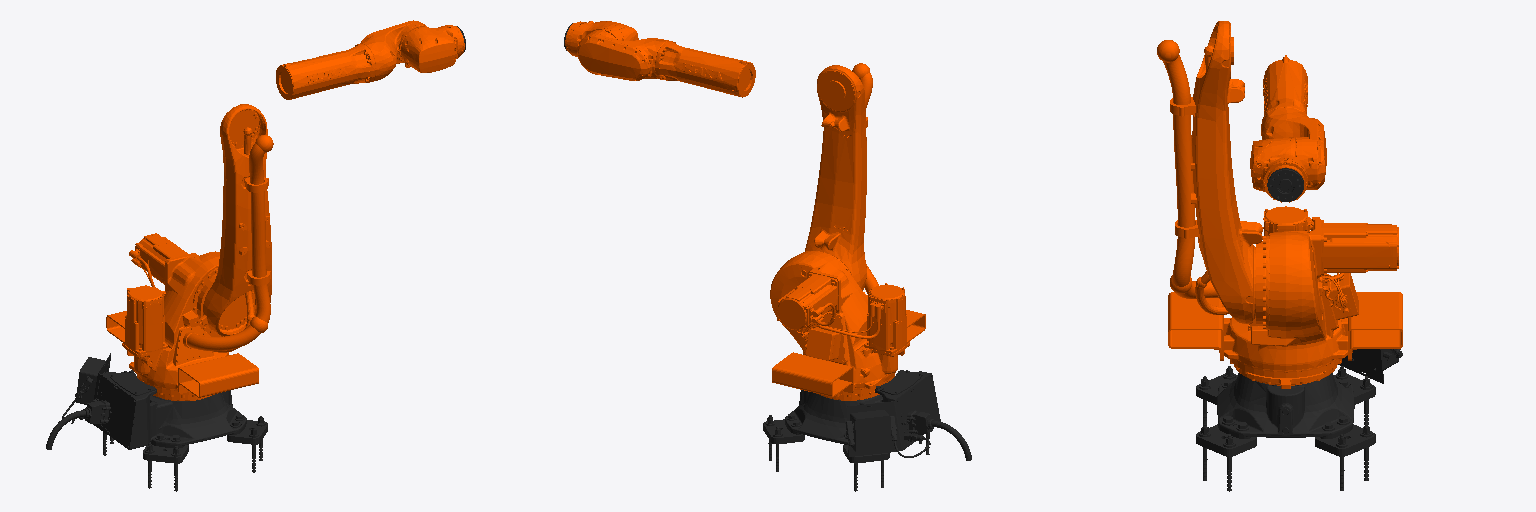
URDF robot description (kuka_kr_70_r2100):
<?xml version="1.0"?>
<robot name="kuka_kr_70_r2100">
  <material name="kuka_orange"><color rgba="1.00 0.40 0.00 1.0"/></material>
  <material name="kuka_dark_gray"><color rgba="0.20 0.20 0.20 1.0"/></material>

  <link name="base_link">
    <inertial>
      <origin xyz="-0.130731 0.039433 0.073320" rpy="0 0 0"/>
      <mass value="124.444"/>
      <inertia ixx="2.857877" ixy="0.498359" ixz="0.544906" iyy="4.033795" iyz="-0.164574" izz="5.644656"/>
    </inertial>
    <visual>
      <origin xyz="0 0 0" rpy="0 0 0"/>
      <geometry><mesh filename="meshes/visual/base_link.stl"/></geometry>
      <material name="kuka_dark_gray"/>
    </visual>
    <collision>
      <origin xyz="0 0 0" rpy="0 0 0"/>
      <geometry><mesh filename="meshes/visual/base_link.stl"/></geometry>
    </collision>
  </link>

  <link name="link_1">
    <inertial>
      <origin xyz="0.017118 0.016407 0.429052" rpy="0 0 0"/>
      <mass value="163.333"/>
      <inertia ixx="6.767992" ixy="0.024721" ixz="-0.359099" iyy="4.069256" iyz="-0.474165" izz="6.147049"/>
    </inertial>
    <visual>
      <origin xyz="0 0 0" rpy="0 0 0"/>
      <geometry><mesh filename="meshes/visual/link_1.stl"/></geometry>
      <material name="kuka_orange"/>
    </visual>
    <collision>
      <origin xyz="0 0 0" rpy="0 0 0"/>
      <geometry><mesh filename="meshes/visual/link_1.stl"/></geometry>
    </collision>
  </link>

  <link name="link_2">
    <inertial>
      <origin xyz="0.001184 -0.241721 0.389164" rpy="0 0 0"/>
      <mass value="202.222"/>
      <inertia ixx="14.085316" ixy="0.002030" ixz="0.132864" iyy="13.753797" iyz="1.256028" izz="1.650662"/>
    </inertial>
    <visual>
      <origin xyz="0 0 0" rpy="0 0 0"/>
      <geometry><mesh filename="meshes/visual/link_2.stl"/></geometry>
      <material name="kuka_orange"/>
    </visual>
    <collision>
      <origin xyz="0 0 0" rpy="0 0 0"/>
      <geometry><mesh filename="meshes/visual/link_2.stl"/></geometry>
    </collision>
  </link>

  <link name="link_3">
    <inertial>
      <origin xyz="0.031578 -0.004191 0.106598" rpy="0 0 0"/>
      <mass value="155.556"/>
      <inertia ixx="3.718305" ixy="0.918677" ixz="0.325826" iyy="4.949116" iyz="-0.232823" izz="5.515742"/>
    </inertial>
    <visual>
      <origin xyz="0 0 0" rpy="0 0 0"/>
      <geometry><mesh filename="meshes/visual/link_3.stl"/></geometry>
      <material name="kuka_orange"/>
    </visual>
    <collision>
      <origin xyz="0 0 0" rpy="0 0 0"/>
      <geometry><mesh filename="meshes/visual/link_3.stl"/></geometry>
    </collision>
  </link>

  <link name="link_4">
    <inertial>
      <origin xyz="-0.297796 0.030791 0.000310" rpy="0 0 0"/>
      <mass value="35.000"/>
      <inertia ixx="0.187410" ixy="-0.151741" ixz="0.001498" iyy="1.252736" iyz="0.000206" izz="1.275897"/>
    </inertial>
    <visual>
      <origin xyz="0 0 0" rpy="0 0 0"/>
      <geometry><mesh filename="meshes/visual/link_4.stl"/></geometry>
      <material name="kuka_orange"/>
    </visual>
    <collision>
      <origin xyz="0 0 0" rpy="0 0 0"/>
      <geometry><mesh filename="meshes/visual/link_4.stl"/></geometry>
    </collision>
  </link>

  <link name="link_5">
    <inertial>
      <origin xyz="0.051044 -0.024891 -0.000215" rpy="0 0 0"/>
      <mass value="31.111"/>
      <inertia ixx="0.146478" ixy="-0.020026" ixz="-0.000999" iyy="0.219155" iyz="0.000204" izz="0.225923"/>
    </inertial>
    <visual>
      <origin xyz="0 0 0" rpy="0 0 0"/>
      <geometry><mesh filename="meshes/visual/link_5.stl"/></geometry>
      <material name="kuka_orange"/>
    </visual>
    <collision>
      <origin xyz="0 0 0" rpy="0 0 0"/>
      <geometry><mesh filename="meshes/visual/link_5.stl"/></geometry>
    </collision>
  </link>

  <link name="link_6">
    <inertial>
      <origin xyz="-0.018089 0.000069 0.000108" rpy="0 0 0"/>
      <mass value="19.444"/>
      <inertia ixx="0.049209" ixy="-0.000006" ixz="-0.000034" iyy="0.036226" iyz="-0.000054" izz="0.036646"/>
    </inertial>
    <visual>
      <origin xyz="0 0 0" rpy="0 0 0"/>
      <geometry><mesh filename="meshes/visual/link_6.stl"/></geometry>
      <material name="kuka_dark_gray"/>
    </visual>
    <collision>
      <origin xyz="0 0 0" rpy="0 0 0"/>
      <geometry><mesh filename="meshes/visual/link_6.stl"/></geometry>
    </collision>
  </link>

  <link name="tool0"/>

  <joint name="joint_a1" type="revolute">
    <parent link="base_link"/>
    <child link="link_1"/>
    <origin xyz="0.000000 0.000000 0.000000" rpy="0 0 0"/>
    <axis xyz="0.0 0.0 -1.0"/>
    <limit lower="-3.228859" upper="3.228859" effort="5055.6" velocity="3.000000"/>
    <dynamics damping="5.0" friction="1.0"/>
  </joint>

  <joint name="joint_a2" type="revolute">
    <parent link="link_1"/>
    <child link="link_2"/>
    <origin xyz="0.175000 0.000000 0.575000" rpy="0 0 0"/>
    <axis xyz="0.0 1.0 0.0"/>
    <limit lower="-1.483530" upper="2.617994" effort="5833.3" velocity="3.000000"/>
    <dynamics damping="5.0" friction="1.0"/>
  </joint>

  <joint name="joint_a3" type="revolute">
    <parent link="link_2"/>
    <child link="link_3"/>
    <origin xyz="0.000000 0.000000 0.890000" rpy="0 0 0"/>
    <axis xyz="0.0 1.0 0.0"/>
    <limit lower="-3.665191" upper="1.308997" effort="3888.9" velocity="3.000000"/>
    <dynamics damping="5.0" friction="1.0"/>
  </joint>

  <joint name="joint_a4" type="revolute">
    <parent link="link_3"/>
    <child link="link_4"/>
    <origin xyz="1.035000 0.000000 0.050000" rpy="0 0 0"/>
    <axis xyz="-1.0 0.0 -0.0"/>
    <limit lower="-3.141593" upper="3.141593" effort="1555.6" velocity="3.000000"/>
    <dynamics damping="5.0" friction="1.0"/>
  </joint>

  <joint name="joint_a5" type="revolute">
    <parent link="link_4"/>
    <child link="link_5"/>
    <origin xyz="0.000000 0.000000 0.000000" rpy="0 0 0"/>
    <axis xyz="0.0 1.0 0.0"/>
    <limit lower="-2.181662" upper="2.181662" effort="1088.9" velocity="3.000000"/>
    <dynamics damping="5.0" friction="1.0"/>
  </joint>

  <joint name="joint_a6" type="revolute">
    <parent link="link_5"/>
    <child link="link_6"/>
    <origin xyz="0.185000 0.000000 0.000000" rpy="0 0 0"/>
    <axis xyz="-1.0 0.0 -0.0"/>
    <limit lower="-6.108652" upper="6.108652" effort="661.1" velocity="3.000000"/>
    <dynamics damping="5.0" friction="1.0"/>
  </joint>

  <joint name="link_6-tool0" type="fixed">
    <parent link="link_6"/>
    <child link="tool0"/>
    <origin xyz="0.000000 0.000000 0.000000" rpy="0 1.57079632679 0"/>
  </joint>
</robot>

--- Render facts (derived) ---
The picture shows the robot from 3 angles, left to right: view 1: azimuth 30°, elevation 25°; view 2: azimuth 150°, elevation 25°; view 3: azimuth 270°, elevation 25°; orthographic projection.
Robot: kuka_kr_70_r2100 — 8 links, 7 joints (6 revolute, 1 fixed); root link base_link; default pose: all joints at 0.
Links seen in each view (by area): view 1: link_1, link_2, base_link, link_4, link_5; view 2: link_1, base_link, link_2, link_4, link_5; view 3: link_1, link_2, base_link, link_4, link_5, link_6.
Boxes of the visible links, x1,y1,x2,y2 form: link_1: (106,233,267,400); link_2: (197,104,273,336); base_link: (46,353,267,491); link_4: (276,20,426,99); link_5: (401,25,464,72); link_1: (770,251,925,400); base_link: (763,370,971,491); link_2: (805,63,872,294); link_4: (577,30,755,97); link_5: (565,21,638,56); link_1: (1168,206,1402,388); link_2: (1157,21,1262,323); base_link: (1196,349,1402,491); link_4: (1261,55,1326,189); link_5: (1250,137,1307,202); link_6: (1267,168,1303,201).
Bounding box of the posed robot: 2.05 × 0.8586 × 1.78 m (x, y, z).
6 mesh visuals loaded from 7 distinct referenced files (6 binary STL); not drawn: 1 (reference not matched to a file when rendering).
